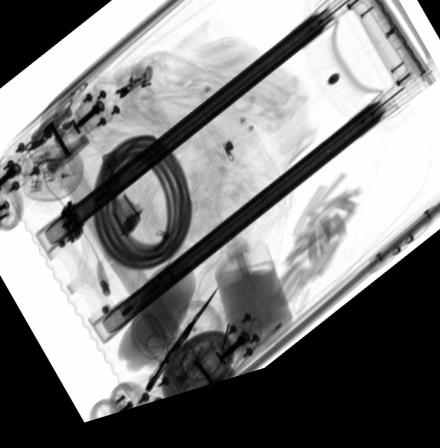Knife: (145, 300, 218, 398)
